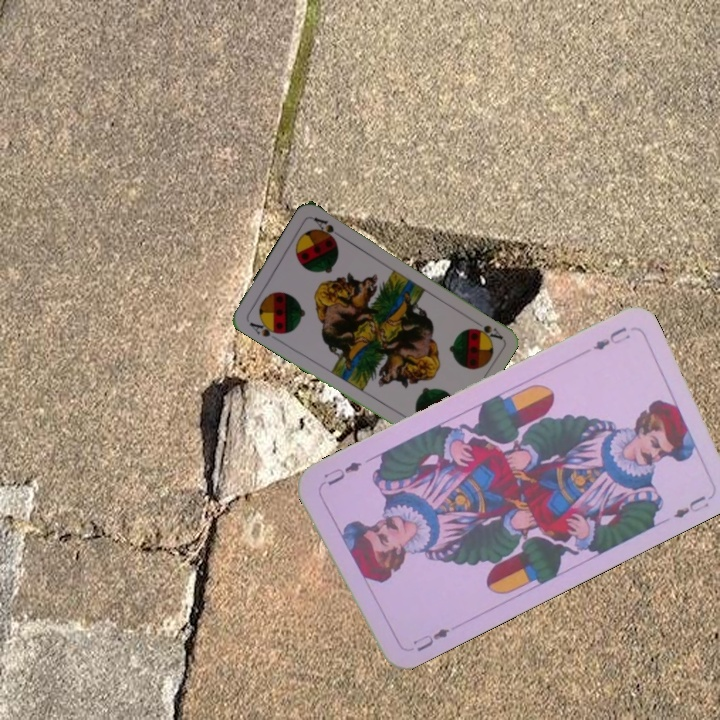EU: (408, 624, 452, 654), (589, 323, 633, 353)
SA: (468, 315, 505, 342), (245, 315, 284, 340)
